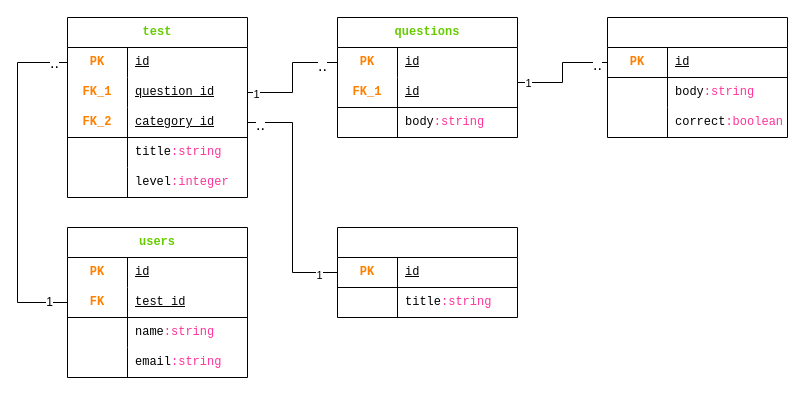
The diagram is 805 pixels wide and 395 high, and some of its shapes have lost their labels. Each missing label, with the box of its shape:
answers: (606, 16, 788, 138)
category: (336, 226, 518, 318)
